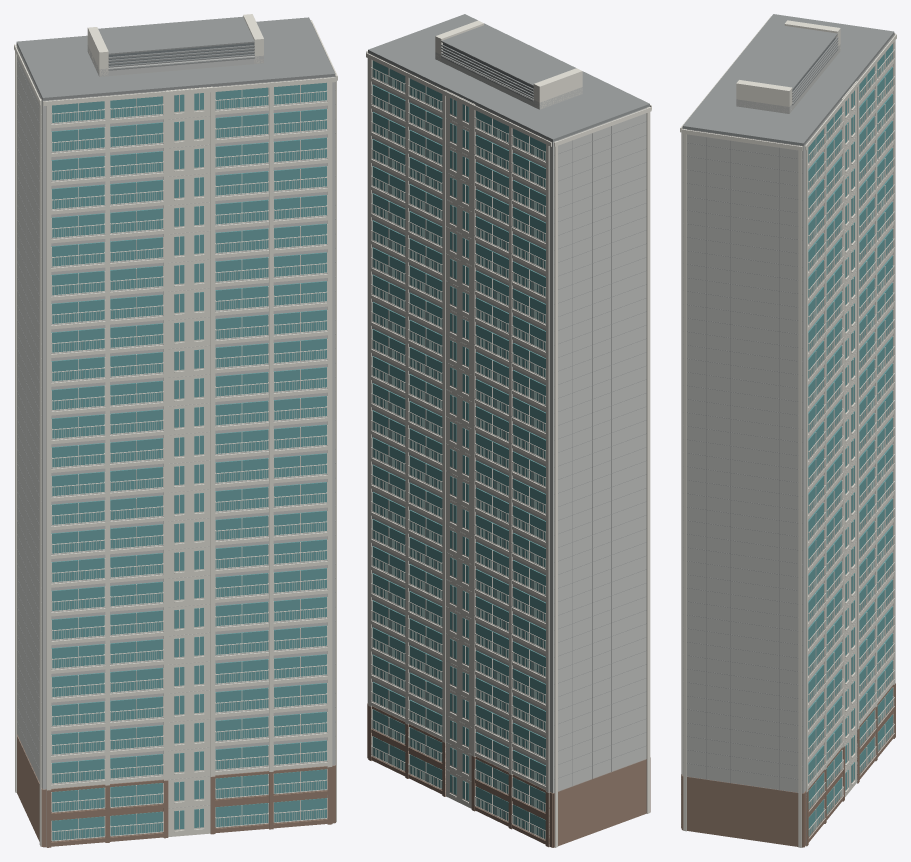
The model's file is bespoke-jamsil-els-105.glb.
The picture shows the model from 3 angles, left to right: view 1: azimuth 30°, elevation 25°; view 2: azimuth 150°, elevation 25°; view 3: azimuth 270°, elevation 25°; orthographic projection. The views are drawn at different scales.
Parts seen in each view (by area): view 1: Els105_editable_Els105_turquoise_balcony_glazing, Els105_editable_Els105_light_grey_solid_wall, Els105_white_exact_chunk_2, Els105_white_exact_chunk_1, Els105_white_exact_chunk_3, Els105_editable_Els105_modest_grey_flat_roof_caps, Els105_editable_Els105_muted_ground_wall, Els105_editable_Els105_narrow_charcoal_service_strips; view 2: Els105_editable_Els105_light_grey_solid_wall, Els105_editable_Els105_turquoise_balcony_glazing, Els105_white_exact_chunk_0, Els105_white_exact_chunk_1, Els105_editable_Els105_modest_grey_flat_roof_caps, Els105_editable_Els105_muted_ground_wall, Els105_white_exact_chunk_3, Els105_editable_Els105_narrow_charcoal_service_strips; view 3: Els105_editable_Els105_light_grey_solid_wall, Els105_editable_Els105_turquoise_balcony_glazing, Els105_white_exact_chunk_0, Els105_editable_Els105_modest_grey_flat_roof_caps, Els105_white_exact_chunk_1, Els105_white_exact_chunk_3, Els105_editable_Els105_muted_ground_wall.
Boxes of the visible parts, box(x1,y1,x2,y2) form: Els105_editable_Els105_turquoise_balcony_glazing: box(51, 82, 326, 840); Els105_editable_Els105_light_grey_solid_wall: box(16, 45, 335, 808); Els105_white_exact_chunk_2: box(46, 91, 268, 847); Els105_white_exact_chunk_1: box(14, 43, 212, 846); Els105_white_exact_chunk_3: box(43, 14, 337, 833); Els105_editable_Els105_modest_grey_flat_roof_caps: box(16, 16, 335, 783); Els105_editable_Els105_muted_ground_wall: box(17, 734, 335, 847); Els105_editable_Els105_narrow_charcoal_service_strips: box(108, 43, 254, 65); Els105_editable_Els105_light_grey_solid_wall: box(368, 52, 649, 793); Els105_editable_Els105_turquoise_balcony_glazing: box(372, 60, 545, 838); Els105_white_exact_chunk_0: box(368, 54, 508, 821); Els105_white_exact_chunk_1: box(366, 53, 651, 847); Els105_editable_Els105_modest_grey_flat_roof_caps: box(368, 14, 649, 791); Els105_editable_Els105_muted_ground_wall: box(367, 703, 650, 847); Els105_white_exact_chunk_3: box(366, 20, 651, 702); Els105_editable_Els105_narrow_charcoal_service_strips: box(443, 43, 533, 96); Els105_editable_Els105_light_grey_solid_wall: box(682, 34, 894, 793); Els105_editable_Els105_turquoise_balcony_glazing: box(808, 44, 892, 836); Els105_white_exact_chunk_0: box(806, 81, 876, 845); Els105_editable_Els105_modest_grey_flat_roof_caps: box(682, 14, 894, 793); Els105_white_exact_chunk_1: box(805, 33, 896, 783); Els105_white_exact_chunk_3: box(680, 16, 840, 847); Els105_editable_Els105_muted_ground_wall: box(681, 683, 895, 847).
Size of the model in its own units: 27.61 by 71.15 by 19.23.
